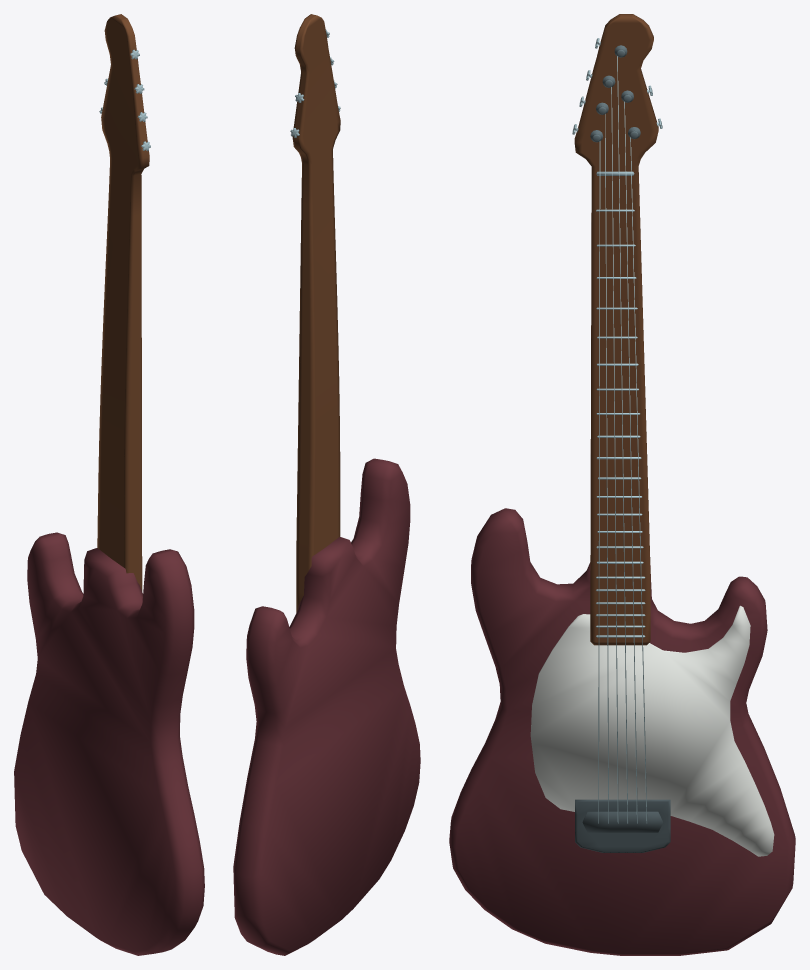
File: Fant_Guitar.obj
3 renders of one model, left to right at view 1: azimuth 30°, elevation 25°; view 2: azimuth 150°, elevation 25°; view 3: azimuth 270°, elevation 25°, orthographic. The views are drawn at different scales.
Visible parts, largest first — view 1: fant_guitar_Plane.001; view 2: fant_guitar_Plane.001; view 3: fant_guitar_Plane.001.
Boxes of the visible parts, <box> form: fant_guitar_Plane.001: <box>14,14,204,955</box>; fant_guitar_Plane.001: <box>233,14,420,955</box>; fant_guitar_Plane.001: <box>449,14,795,955</box>.
Bounding box in the file's own units: 0.2615 × 6 × 2.
